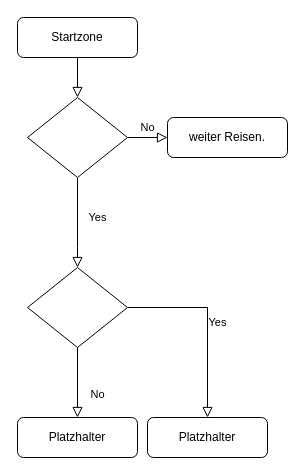
This 305x475 diagram has some shape labels left out. The shapes that lost their labels are listed below. From the top down, each one's centre as x and y in pixels, then its label:
point 77,137: Bauern helfen?
point 77,307: +2 Gold - nächstes Event
